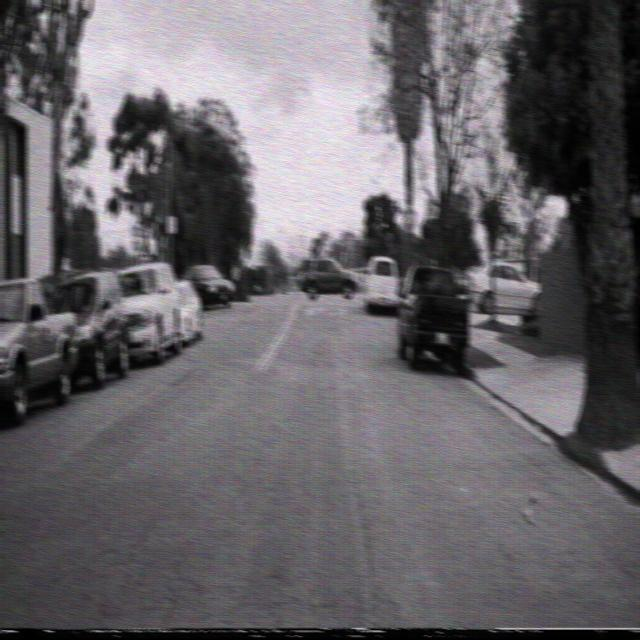stop_sign: (401, 204, 417, 234)
